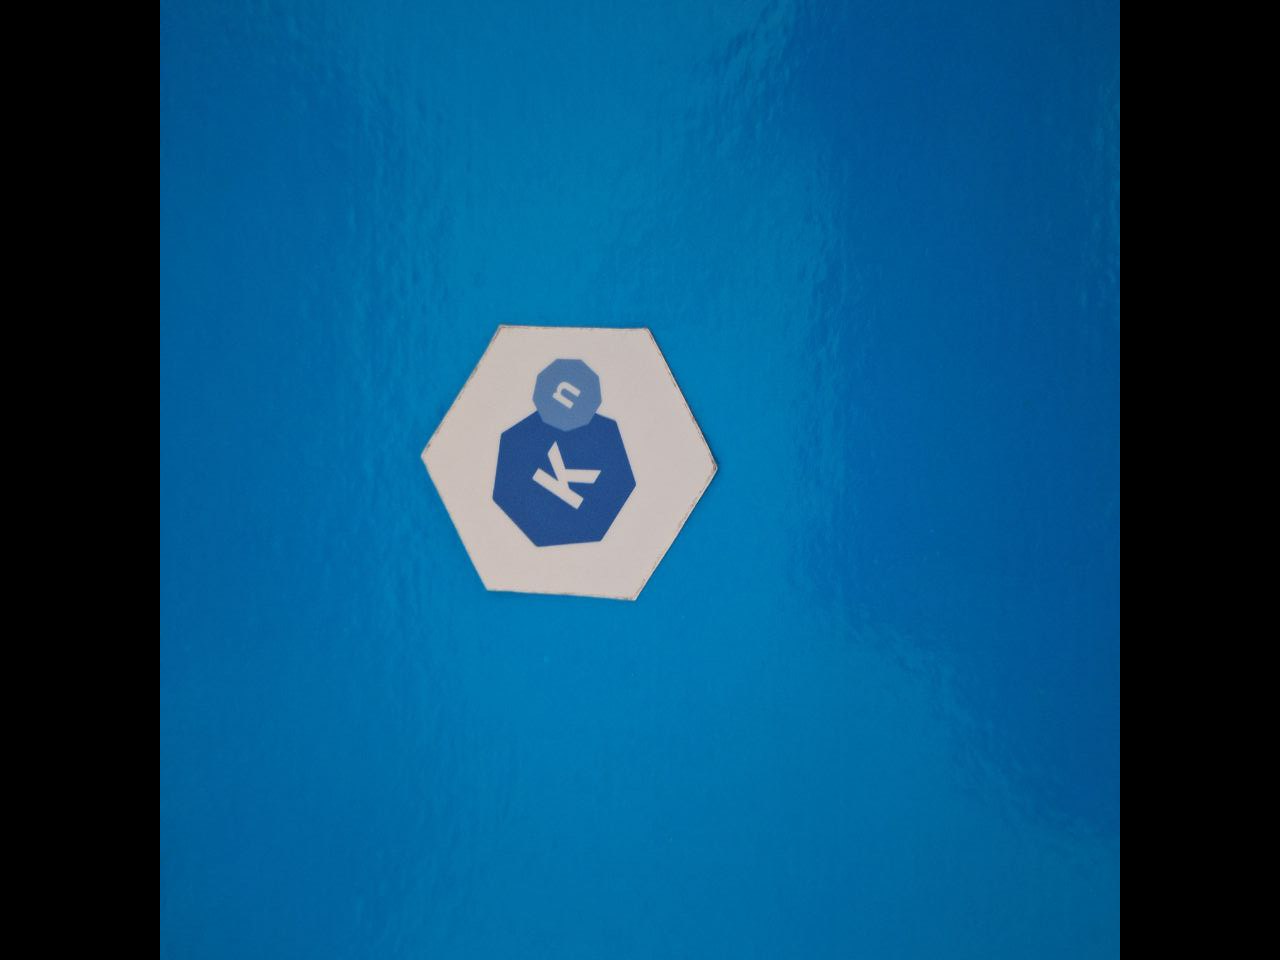knative: (489, 357, 636, 550)
